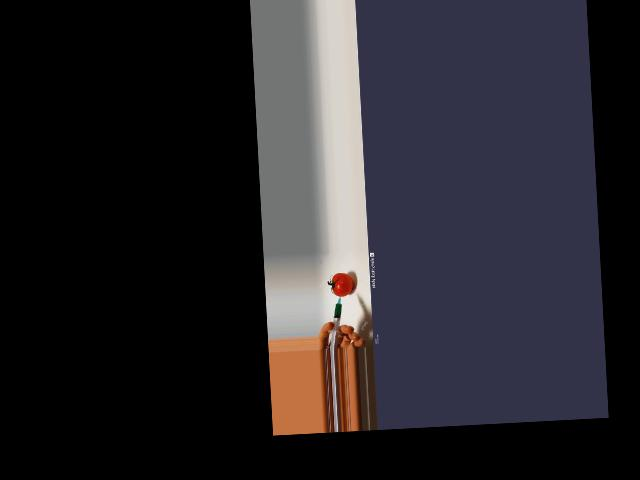tomato: (331, 272, 354, 297)
